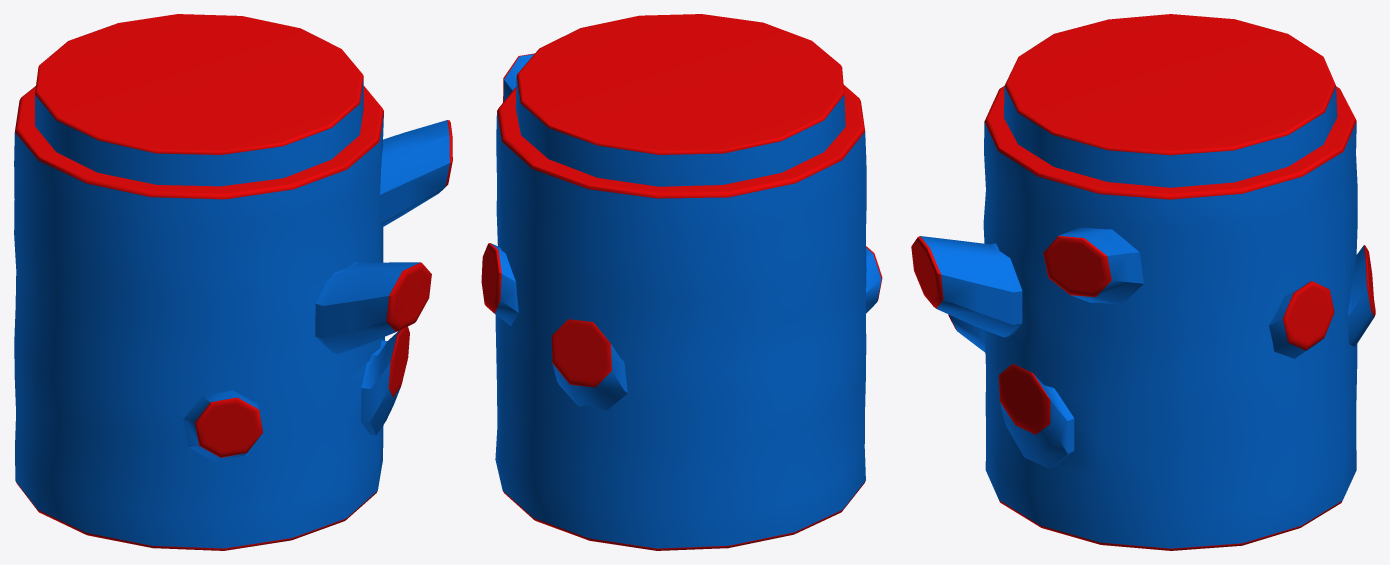
Rendered from log_05.fbx.
3 views of the same model, side by side, from view 1: azimuth 30°, elevation 25°; view 2: azimuth 150°, elevation 25°; view 3: azimuth 270°, elevation 25° (orthographic).
Visible parts, largest first — view 1: generated_log_05, generated_log_03, generated_log_04; view 2: generated_log_05, generated_log_03, generated_log_04; view 3: generated_log_05, generated_log_03, generated_log_04.
Part boxes in pixels (bbox=[...]): generated_log_05: bbox=[14, 86, 431, 550]; generated_log_03: bbox=[35, 14, 452, 226]; generated_log_04: bbox=[183, 390, 262, 461]; generated_log_05: bbox=[495, 85, 866, 550]; generated_log_03: bbox=[503, 14, 845, 409]; generated_log_04: bbox=[481, 243, 882, 325]; generated_log_05: bbox=[911, 86, 1357, 550]; generated_log_03: bbox=[1004, 14, 1375, 346]; generated_log_04: bbox=[948, 281, 1334, 358].
Size of the model in its own units: 3.36 by 3.38 by 3.63.
